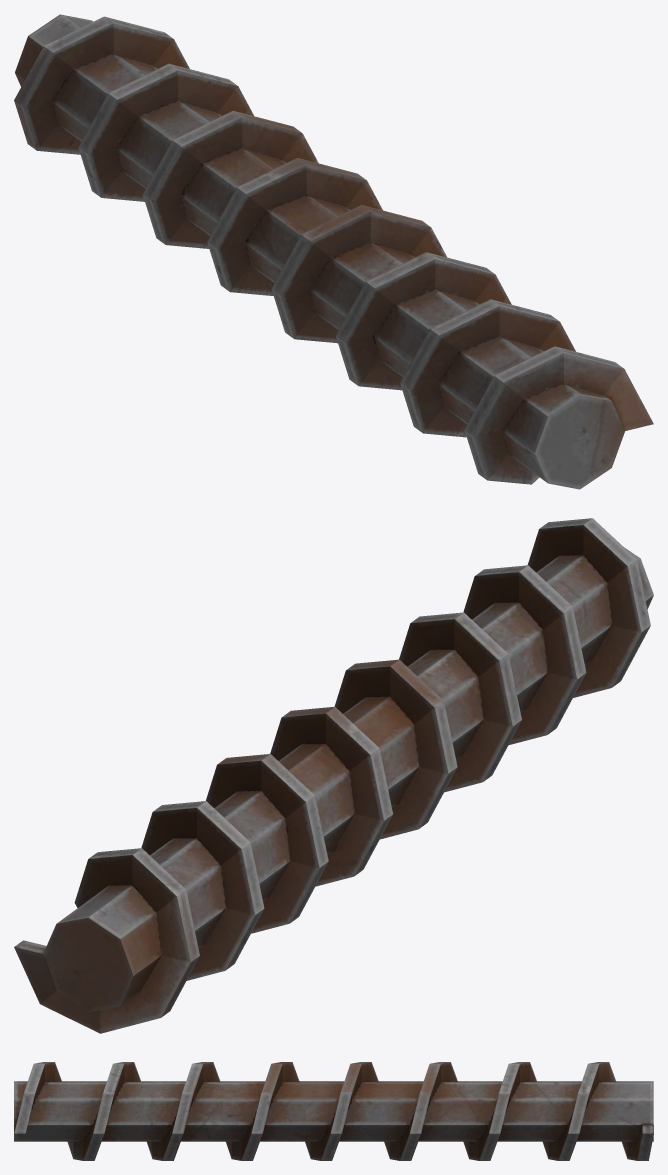
Rendered from IronThreadedRod.glb.
3 views of the same model, one above another, from view 1: azimuth 30°, elevation 25°; view 2: azimuth 150°, elevation 25°; view 3: azimuth 270°, elevation 25° (orthographic). The views are drawn at different scales.
Parts seen in each view (by area): view 1: IronThreadedRod; view 2: IronThreadedRod; view 3: IronThreadedRod.
Boxes of the visible parts, x1,y1,x2,y2 form: IronThreadedRod: [14, 14, 653, 489]; IronThreadedRod: [14, 518, 653, 1033]; IronThreadedRod: [14, 1062, 653, 1160].
Size of the model in its own units: 0.133 by 0.133 by 0.8084.
Materials: 1 (1 with a texture image).
